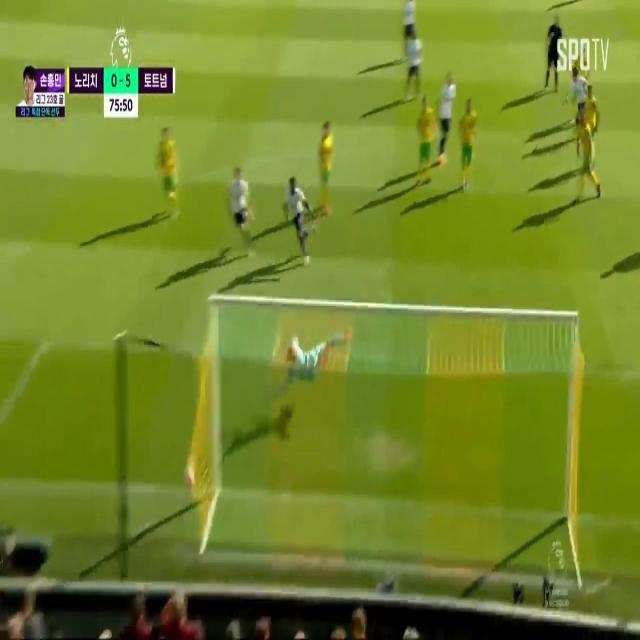ball: (184, 462, 198, 494)
player: (226, 162, 258, 257), (435, 75, 459, 172), (570, 111, 594, 205), (288, 173, 312, 264), (158, 121, 180, 219), (314, 116, 334, 212), (459, 95, 476, 193), (401, 32, 429, 90), (414, 92, 434, 170), (578, 84, 600, 132), (570, 64, 590, 100)
referee: (545, 14, 561, 91)
